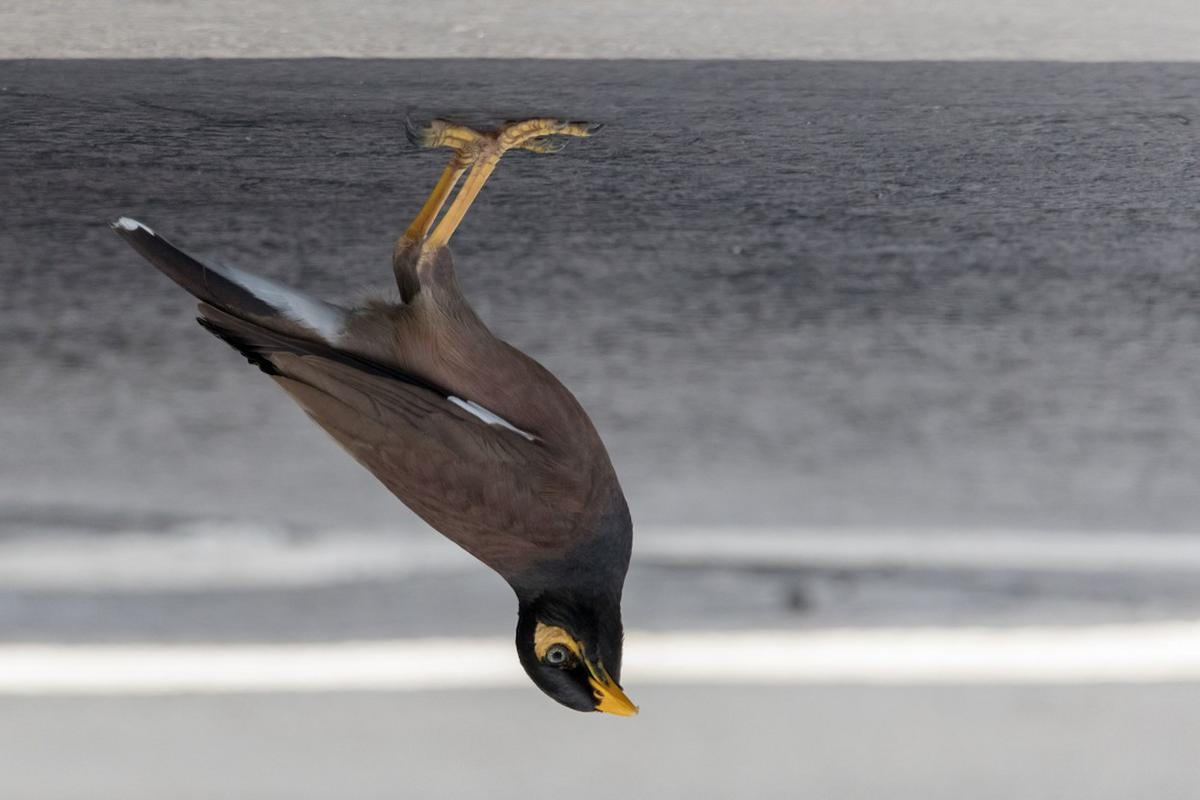myna: (84, 81, 706, 758)
